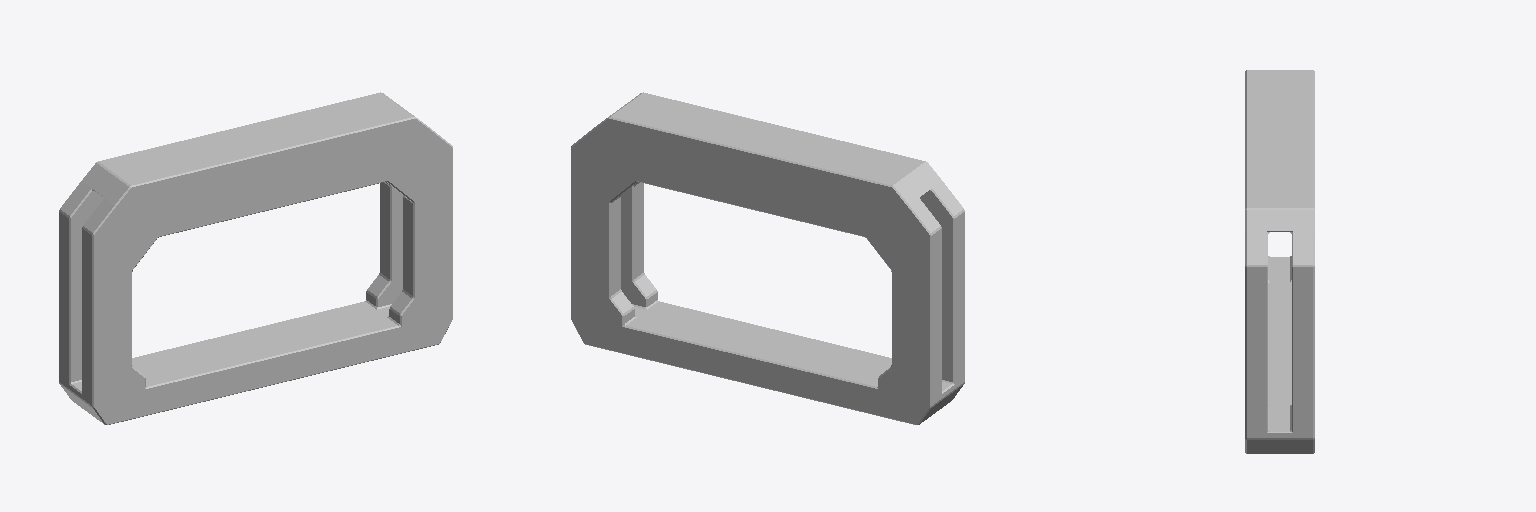
File: DoorFrame.obj
3 renders of one model, left to right at view 1: azimuth 30°, elevation 25°; view 2: azimuth 150°, elevation 25°; view 3: azimuth 270°, elevation 25°, orthographic.
Parts seen in each view (by area): view 1: DoorFrame_Plane; view 2: DoorFrame_Plane; view 3: DoorFrame_Plane.
Boxes of the visible parts, x1=… form: DoorFrame_Plane: x1=59, y1=92, x2=452, y2=424; DoorFrame_Plane: x1=571, y1=92, x2=964, y2=424; DoorFrame_Plane: x1=1245, y1=70, x2=1314, y2=453.
Size of the model in its own units: 18 by 11.15 by 3.